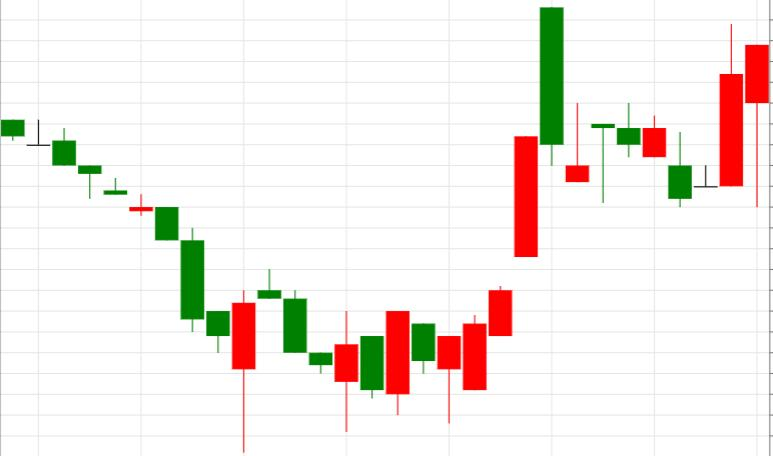bullish_engulfing_rise: (257, 269, 409, 431)
